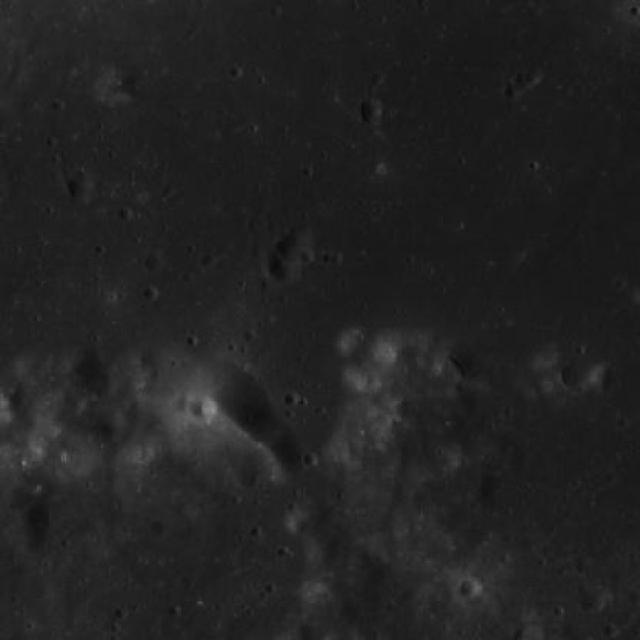crater: (472, 456, 546, 529), (346, 332, 396, 383), (280, 229, 316, 265), (272, 249, 306, 283), (464, 518, 493, 547), (580, 584, 608, 612), (192, 394, 220, 422), (66, 174, 94, 202), (150, 514, 173, 537), (461, 578, 484, 600), (362, 100, 384, 122), (624, 586, 640, 608), (366, 154, 382, 171), (148, 256, 164, 270)
